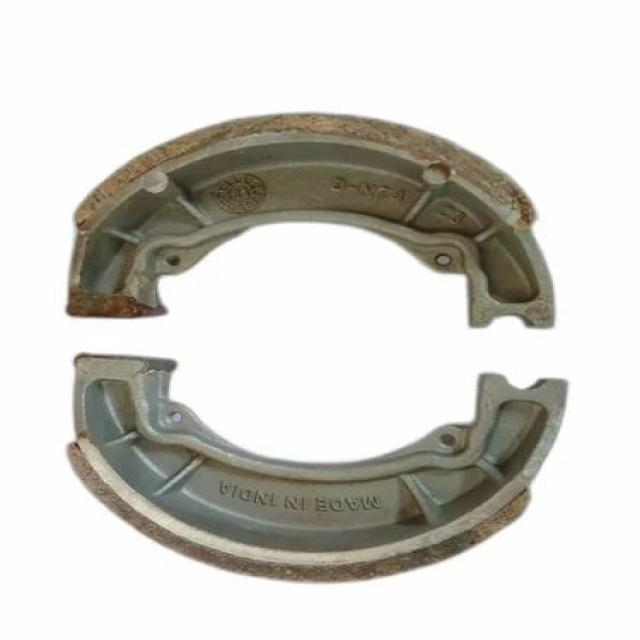brake_pad: (51, 358, 586, 590), (61, 106, 564, 341)
